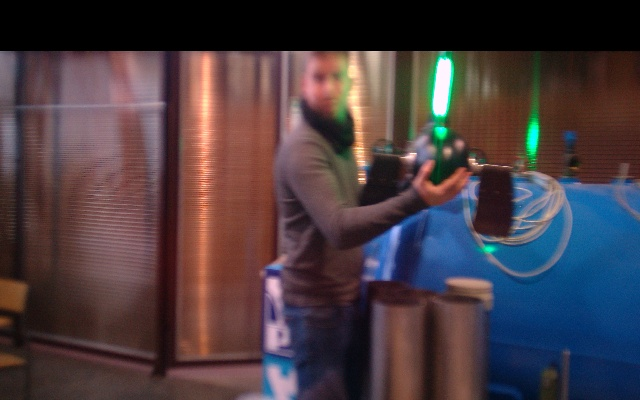green: (431, 57, 454, 121)
